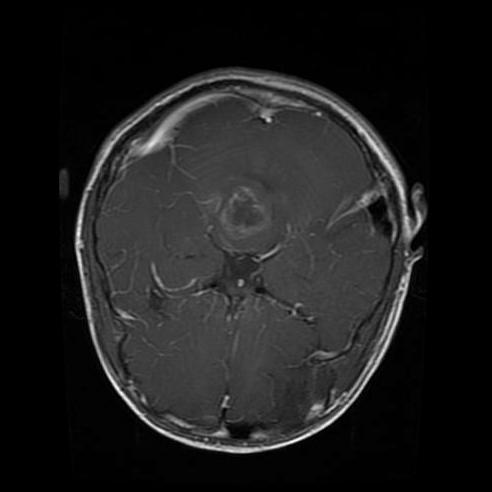Tumour-Glioma: (215, 183, 269, 250)
